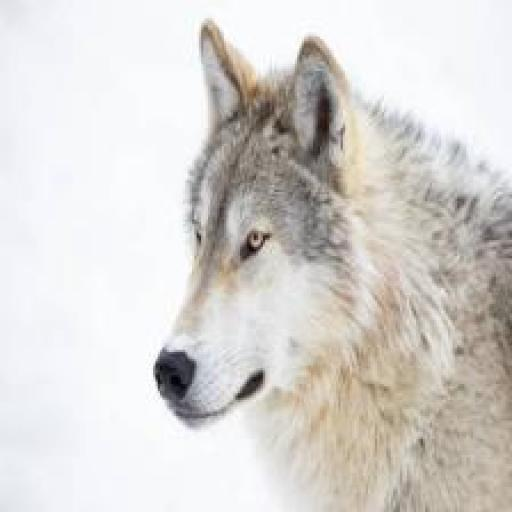wolf: (87, 0, 484, 512)
